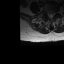CCS_normal: (50, 11, 52, 19)
LFS_stenosis: (54, 11, 57, 15)
LLS_normal: (52, 11, 54, 17)
RFS_stenosis: (45, 11, 47, 15)
RLS_normal: (47, 11, 50, 18)
